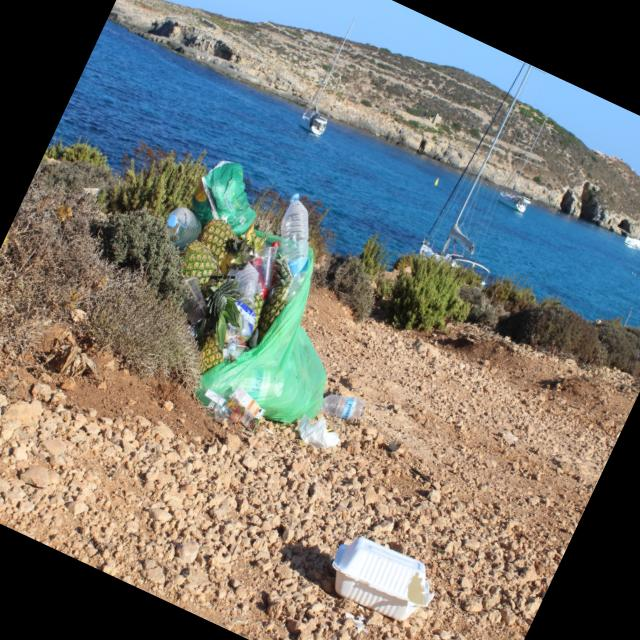Bottle: (226, 261, 260, 353), (280, 193, 308, 301), (196, 386, 243, 423), (165, 208, 201, 248), (321, 394, 363, 421)
Bottle cap: (271, 241, 279, 249)
Carton: (233, 386, 265, 433)
Cup: (179, 277, 207, 325), (252, 248, 278, 292)
Lid: (214, 391, 242, 423)
Other litter: (298, 414, 341, 449), (223, 327, 260, 359), (257, 263, 282, 302)
Plastic bag - wrapper: (197, 247, 327, 425), (192, 161, 256, 233), (253, 229, 280, 249)
Straw: (251, 242, 255, 253)
Styrofoam piece: (328, 538, 434, 625)
